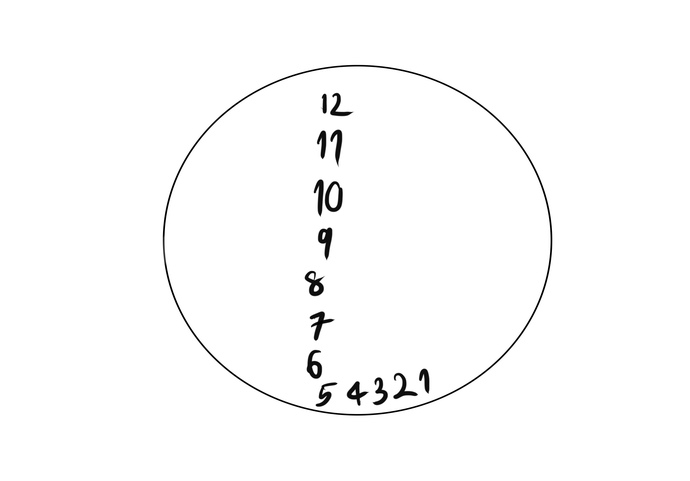eight: (300, 261, 336, 298)
eleven: (312, 118, 345, 166)
five: (312, 377, 336, 409)
four: (345, 374, 365, 406)
nine: (318, 224, 339, 258)
one: (415, 363, 436, 391)
seven: (309, 306, 336, 343)
six: (304, 352, 329, 378)
ten: (312, 178, 346, 218)
three: (365, 366, 389, 404)
twelve: (319, 82, 359, 121)
two: (387, 366, 411, 399)
